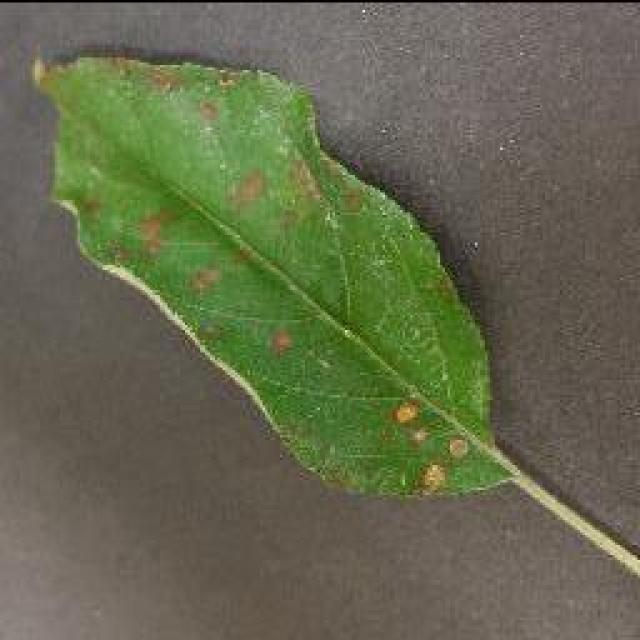apple healthy: (28, 45, 518, 500)
